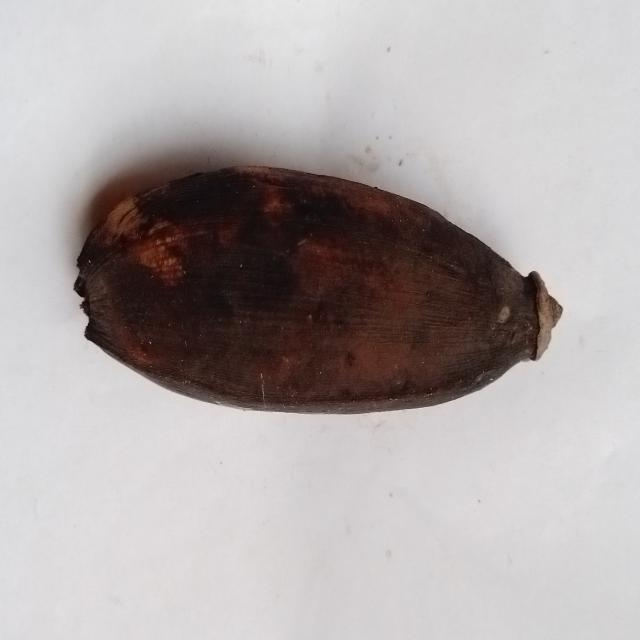banana: (76, 167, 561, 413)
